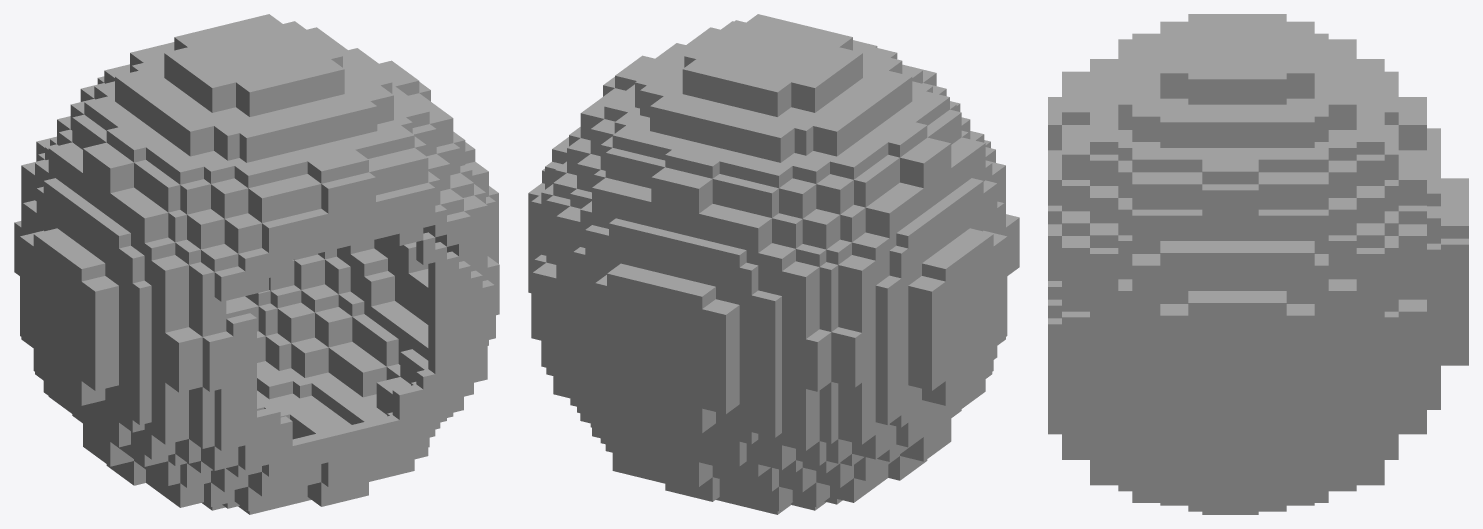
Rendered from drone-0-drone.obj.
3 views of the same model, side by side, from view 1: azimuth 30°, elevation 25°; view 2: azimuth 150°, elevation 25°; view 3: azimuth 270°, elevation 25° (orthographic). The views are drawn at different scales.
Visible parts, largest first — view 1: drone; view 2: drone; view 3: drone.
Boxes of the visible parts, x1,y1,x2,y2 form: drone: (14,14,499,514); drone: (528,14,1019,514); drone: (1048,14,1468,514).
Size of the model in its own units: 3.4 by 3.4 by 3.
